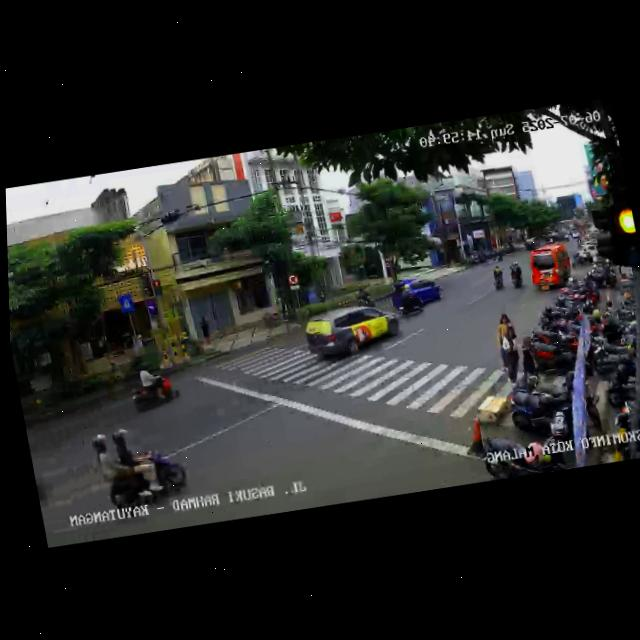car: (299, 297, 399, 366), (526, 242, 576, 295), (390, 275, 447, 320)
motorcycle: (88, 418, 190, 514), (124, 360, 180, 418), (391, 281, 424, 320), (508, 260, 525, 290), (490, 262, 506, 292)
person: (498, 325, 526, 390), (491, 313, 520, 374)
